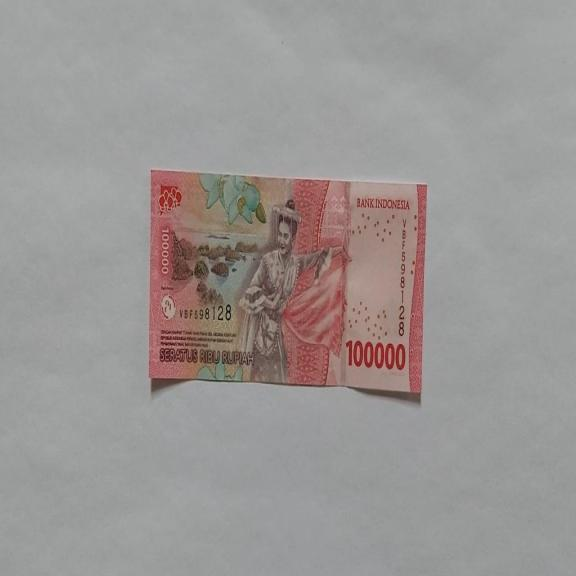Kertas: (148, 168, 427, 398), (345, 338, 406, 371)
